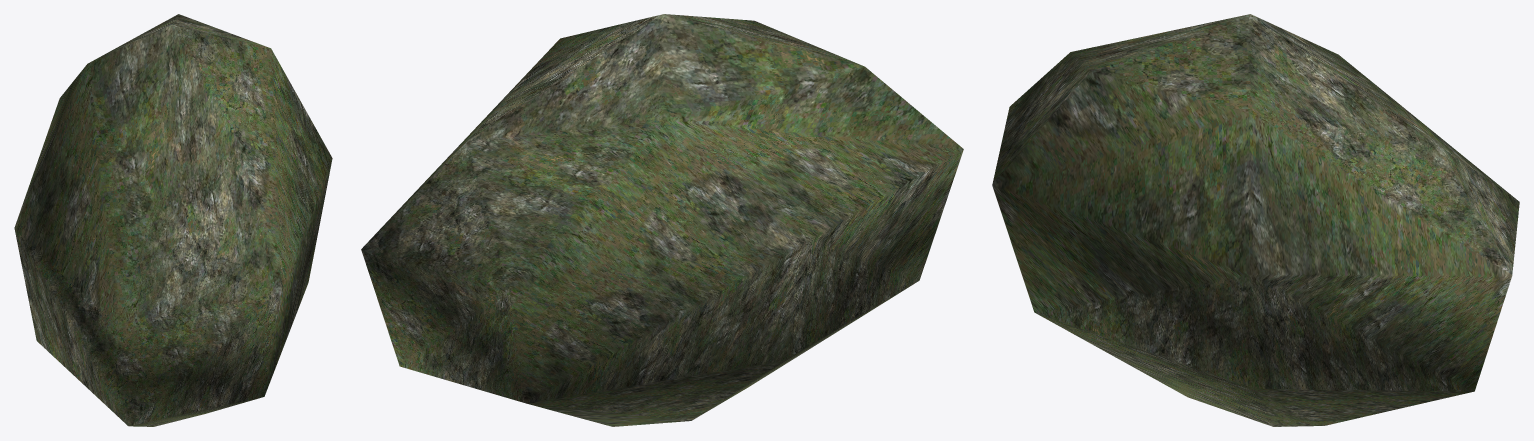
Rendered from mtns_rock_moss_a5_l0.fbx.
The picture shows the model from 3 angles, left to right: view 1: azimuth 30°, elevation 25°; view 2: azimuth 150°, elevation 25°; view 3: azimuth 270°, elevation 25°; orthographic projection. The views are drawn at different scales.
Parts seen in each view (by area): view 1: mesh_node; view 2: mesh_node; view 3: mesh_node.
Part boxes in pixels (bbox=[...]): mesh_node: bbox=[14, 14, 332, 426]; mesh_node: bbox=[361, 14, 963, 426]; mesh_node: bbox=[992, 14, 1519, 426].
Bounding box in the file's own units: 0.7138 × 0.7515 × 0.9406.
